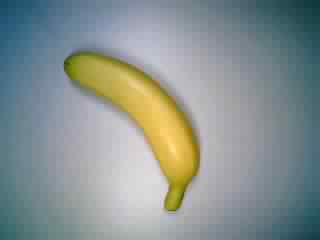banana: (61, 45, 205, 214)
